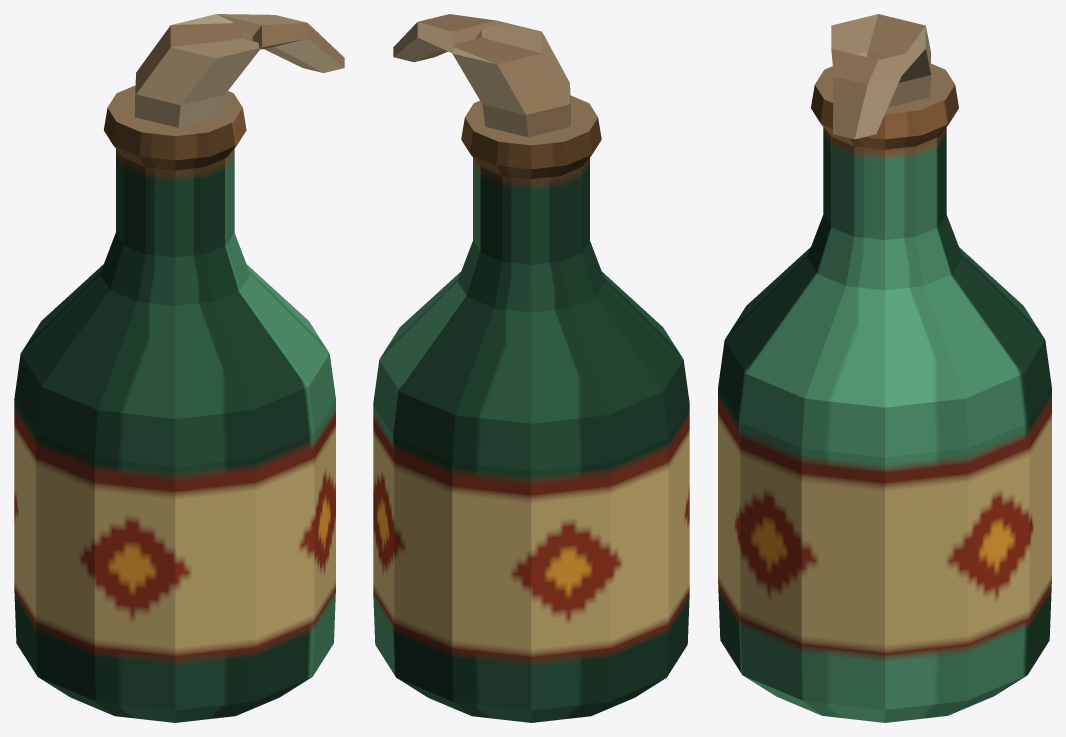
Rendered from Molotov.obj.
3 renders of one model, left to right at view 1: azimuth 30°, elevation 25°; view 2: azimuth 150°, elevation 25°; view 3: azimuth 270°, elevation 25°, orthographic. The views are drawn at different scales.
Parts seen in each view (by area): view 1: Molotov; view 2: Molotov; view 3: Molotov.
Part boxes in pixels (x1=…): Molotov: x1=14, y1=14, x2=344, y2=722; Molotov: x1=373, y1=14, x2=689, y2=722; Molotov: x1=718, y1=14, x2=1051, y2=722.
Bounding box in the file's own units: 0.813 × 1.66 × 0.77.
1 material, 1 textured.
